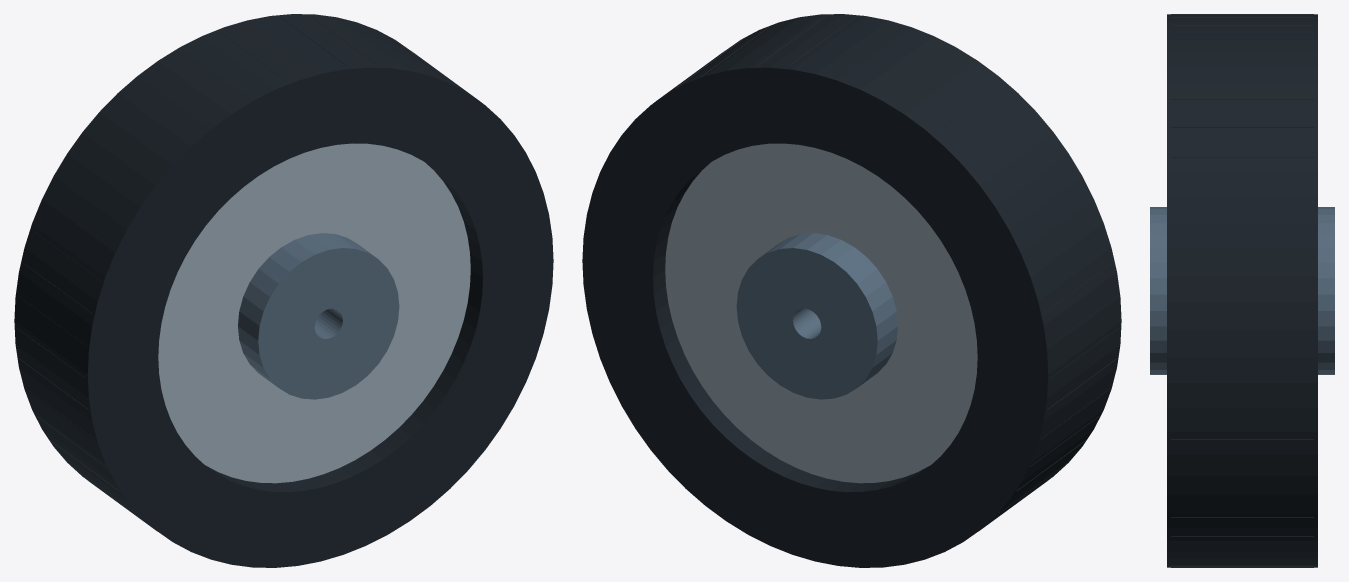
Rendered from wheel.obj.
3 views of the same model, side by side, from view 1: azimuth 30°, elevation 25°; view 2: azimuth 150°, elevation 25°; view 3: azimuth 270°, elevation 25° (orthographic). The views are drawn at different scales.
Bounding box in the file's own units: 0.066 × 0.066 × 0.022.
